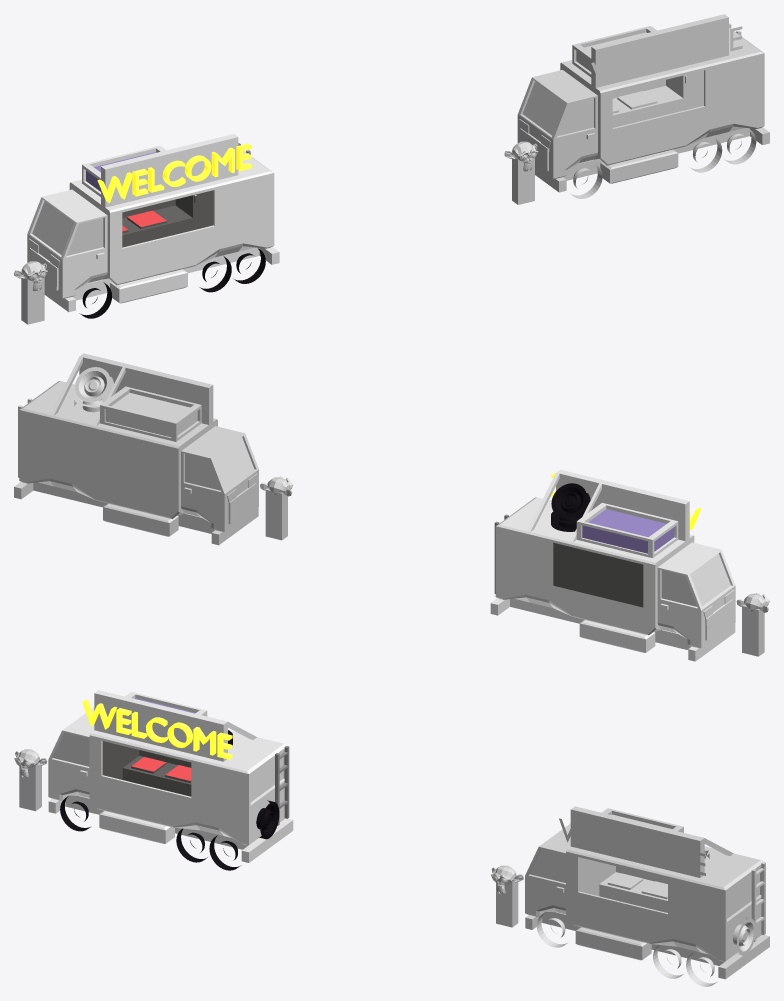
File: foodTruck.glb
3 renders of one model, top to bottom at view 1: azimuth 30°, elevation 25°; view 2: azimuth 150°, elevation 25°; view 3: azimuth 330°, elevation 25°, orthographic. The views are drawn at different scales.
Parts seen in each view (by area): view 1: Cube, Cube.003, FoodTruck, Cube.005, Cube.002, Text, Text.001; view 2: Cube.003, Cube, Cube.002, Cube.005, FoodTruck, Circle.005, Circle.011; view 3: Cube, Cube.003, FoodTruck, Cube.002, Cube.005, Text, Text.001, Cube.001, Circle.004, Circle.010, Cube.004.
Part boxes in pixels (<box>): Cube: <box>517,14,769,192</box>; Cube.003: <box>27,134,279,312</box>; FoodTruck: <box>82,143,265,318</box>; Cube.005: <box>14,261,47,324</box>; Cube.002: <box>504,141,538,204</box>; Text: <box>591,26,742,83</box>; Text.001: <box>101,146,251,203</box>; Cube.003: <box>490,469,735,661</box>; Cube: <box>14,353,258,545</box>; Cube.002: <box>260,476,293,540</box>; Cube.005: <box>736,592,769,656</box>; FoodTruck: <box>497,472,701,531</box>; Circle.005: <box>75,367,113,402</box>; Circle.011: <box>552,484,589,518</box>; Cube: <box>525,806,769,979</box>; Cube.003: <box>48,690,293,862</box>; FoodTruck: <box>72,699,287,870</box>; Cube.002: <box>491,865,523,927</box>; Cube.005: <box>14,749,47,811</box>; Text: <box>559,818,705,875</box>; Text.001: <box>82,702,229,759</box>; Cube.001: <box>751,862,765,941</box>; Circle.004: <box>733,916,755,955</box>; Circle.010: <box>256,800,279,839</box>; Cube.004: <box>275,746,289,825</box>.
Size of the model in its own units: 46.21 by 8.56 by 4.88.
